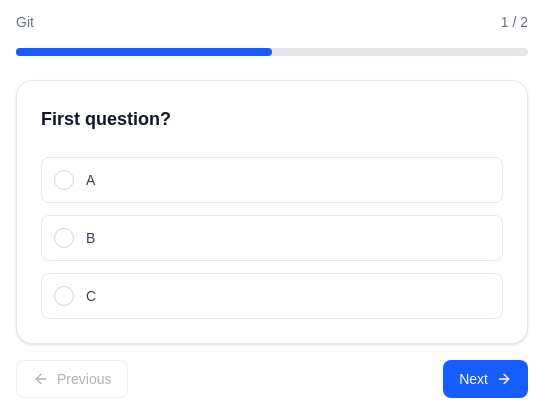
QuizRunner › supports navigating back with Previous
Click the button "A" at (64, 180), box [41, 157, 503, 203]
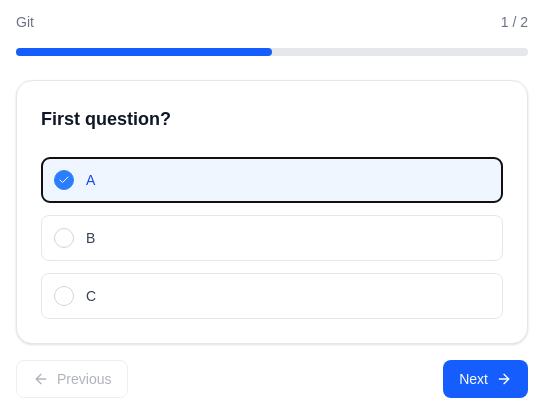
Click the button "Next" at (486, 379), box [443, 360, 528, 398]
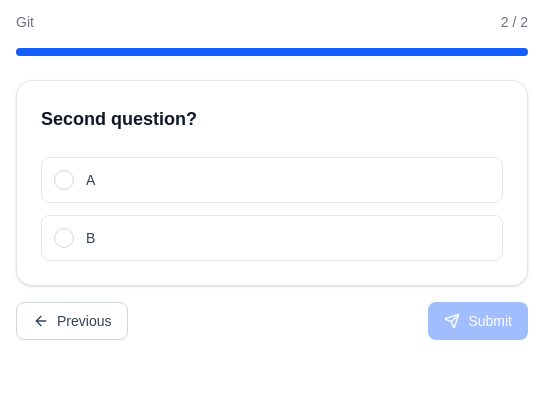
Expected: the heading "Second question?" is shown, [41, 109, 197, 129]
Click the button "Previous" at (72, 321), box [16, 302, 128, 340]
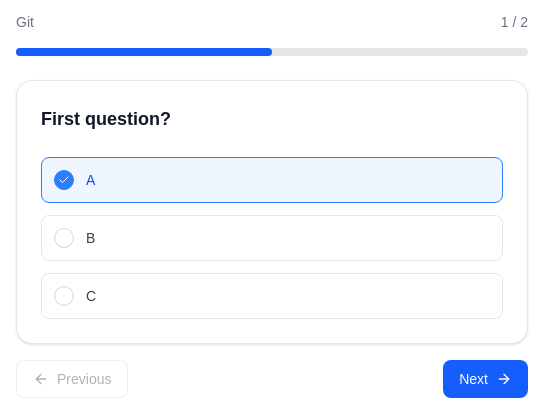
Expected: the heading "First question?" is shown, [41, 109, 171, 129]
